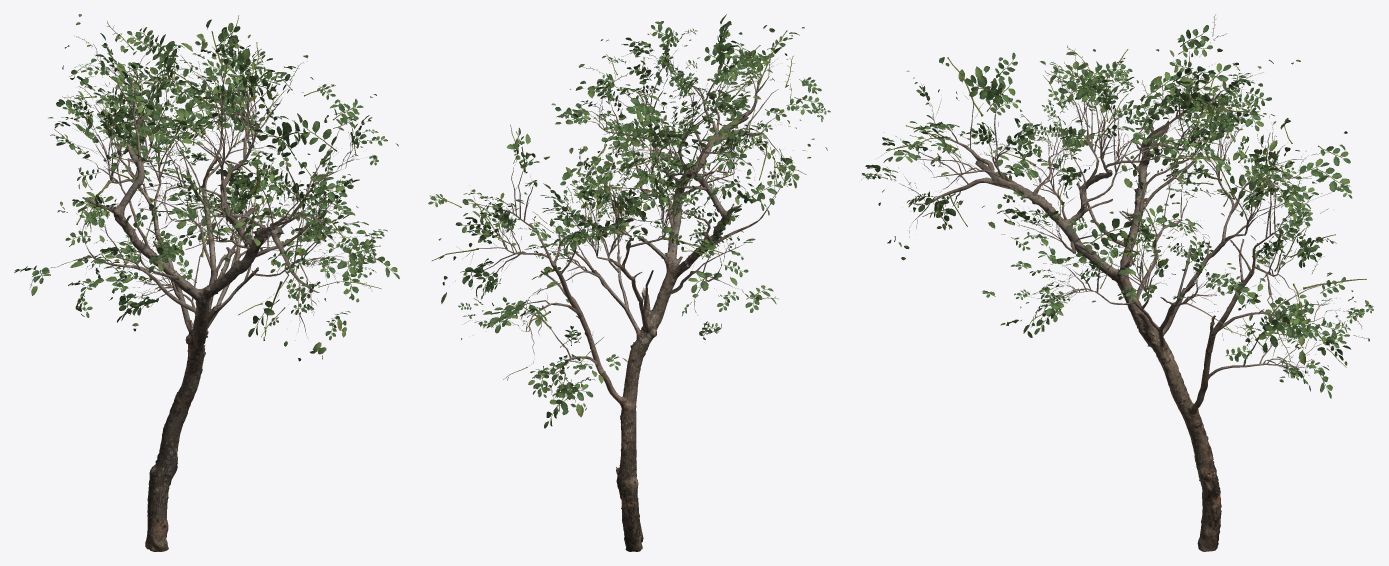
The model's file is дерево.glb.
3 views of the same model, side by side, from view 1: azimuth 30°, elevation 25°; view 2: azimuth 150°, elevation 25°; view 3: azimuth 270°, elevation 25° (orthographic). The views are drawn at different scales.
Visible parts, largest first — view 1: tree_small_02_LOD0.002, tree_small_02_LOD0, tree_small_02_LOD0.001; view 2: tree_small_02_LOD0.002, tree_small_02_LOD0, tree_small_02_LOD0.001; view 3: tree_small_02_LOD0.002, tree_small_02_LOD0.001, tree_small_02_LOD0.
Part boxes in pixels (x1,y1,x2,y2): tree_small_02_LOD0.002: [14, 14, 399, 361]; tree_small_02_LOD0: [86, 144, 304, 551]; tree_small_02_LOD0.001: [47, 31, 371, 340]; tree_small_02_LOD0.002: [428, 14, 830, 428]; tree_small_02_LOD0: [536, 117, 748, 551]; tree_small_02_LOD0.001: [456, 45, 805, 400]; tree_small_02_LOD0.002: [861, 14, 1373, 398]; tree_small_02_LOD0.001: [887, 41, 1348, 380]; tree_small_02_LOD0: [975, 119, 1255, 551].
Bounding box in the file's own units: 2.93 × 4.53 × 4.26.
3 materials, 3 textured.
